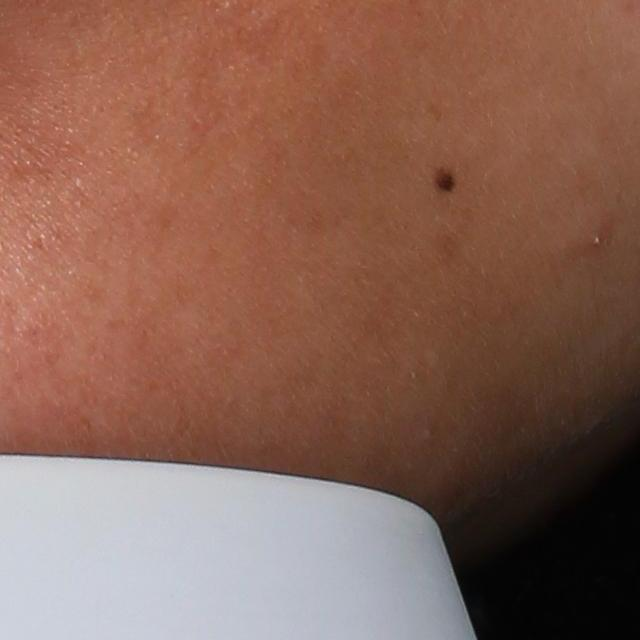nevus: (430, 167, 458, 193)
